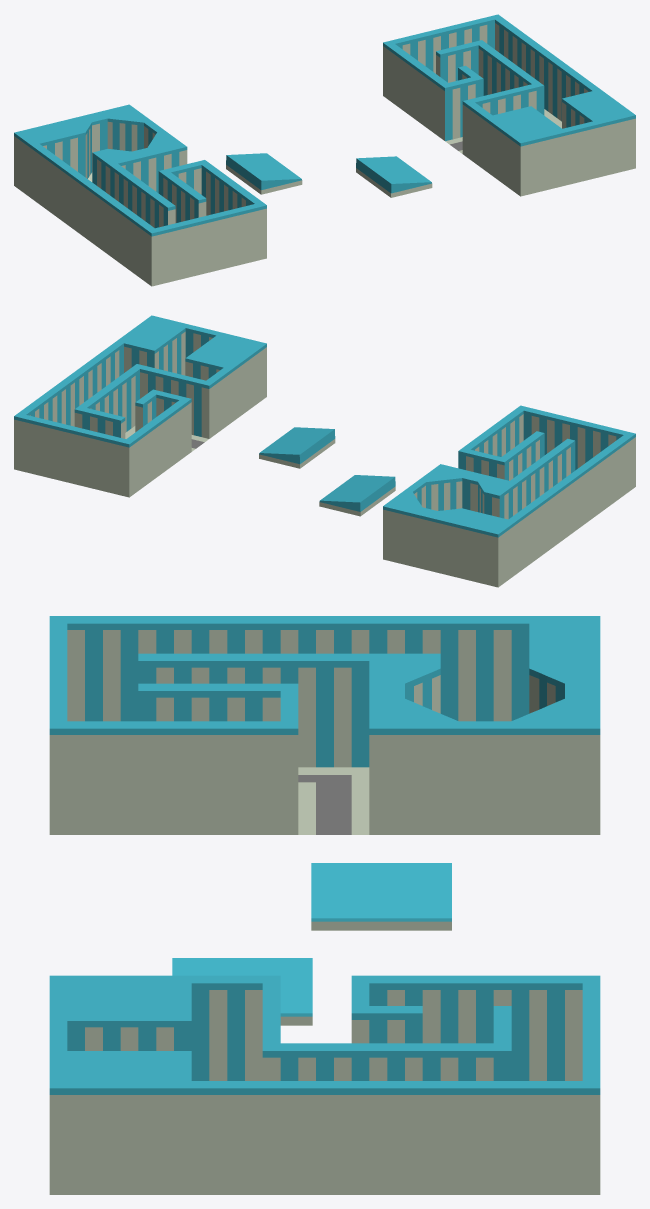
Rendered from levelobj2.fbx.
3 views of the same model, one above another, from view 1: azimuth 30°, elevation 25°; view 2: azimuth 150°, elevation 25°; view 3: azimuth 270°, elevation 25° (orthographic). The views are drawn at different scales.
Visible parts, largest first — view 1: Plane; view 2: Plane; view 3: Plane.
Boxes of the visible parts, bbox=[...] form: Plane: bbox=[14, 14, 635, 286]; Plane: bbox=[14, 315, 635, 587]; Plane: bbox=[49, 616, 600, 1194].
Bounding box in the file's own units: 3248 × 341 × 1600.
